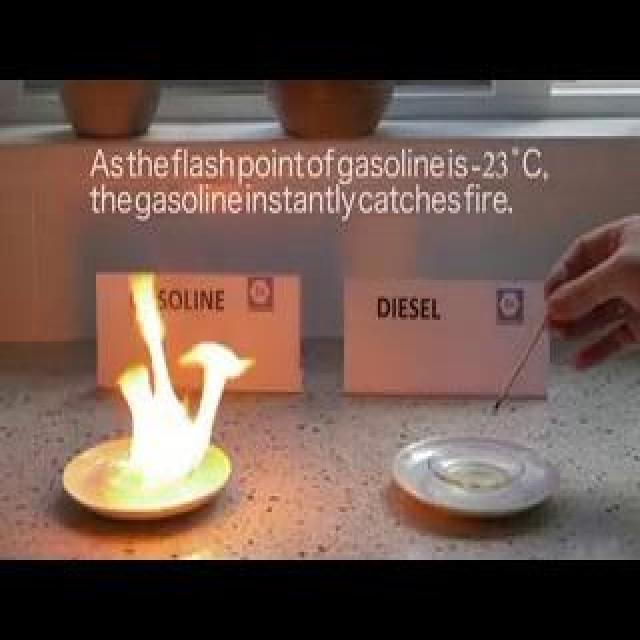Fire: (123, 280, 233, 483)
